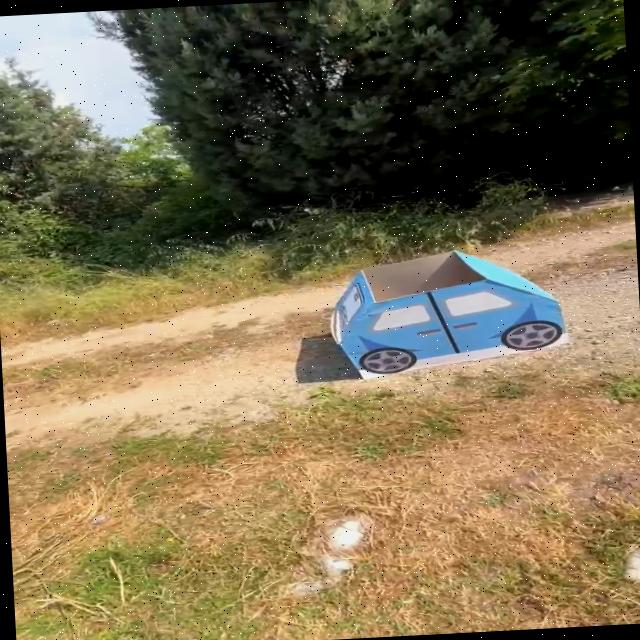blue_car: (299, 230, 587, 401)
